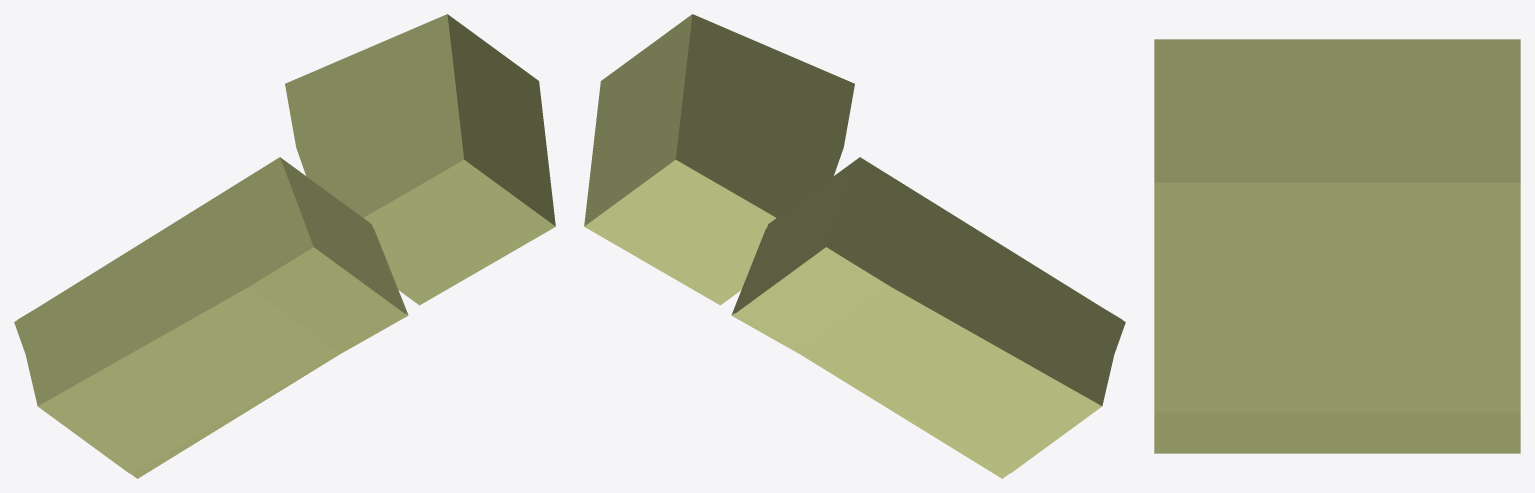
The picture shows the model from 3 angles, left to right: view 1: azimuth 30°, elevation 25°; view 2: azimuth 150°, elevation 25°; view 3: azimuth 270°, elevation 25°; orthographic projection. The views are drawn at different scales.
Visible parts, largest first — view 1: 0_1_2_3_0_0_0_0_0_0; view 2: 0_1_2_3_0_0_0_0_0_0; view 3: 0_1_2_3_0_0_0_0_0_0.
Part boxes in pixels (x1,y1,x2,y2): 0_1_2_3_0_0_0_0_0_0: (14,14,555,478); 0_1_2_3_0_0_0_0_0_0: (584,14,1125,478); 0_1_2_3_0_0_0_0_0_0: (1154,39,1520,453).
Size of the model in its own units: 25.52 by 16.25 by 9.
